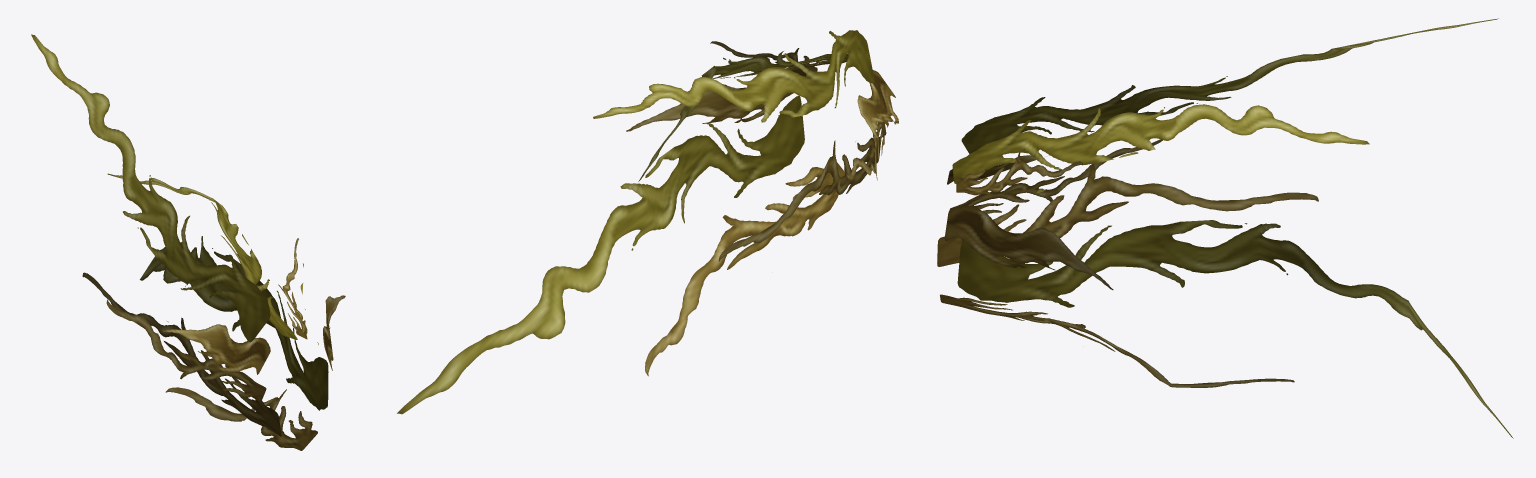
File: SMSH_Sea_grass_5.FBX
The picture shows the model from 3 angles, left to right: view 1: azimuth 30°, elevation 25°; view 2: azimuth 150°, elevation 25°; view 3: azimuth 270°, elevation 25°; orthographic projection. The views are drawn at different scales.
Parts seen in each view (by area): view 1: Ytlds_Sea_grass_5; view 2: Ytlds_Sea_grass_5; view 3: Ytlds_Sea_grass_5.
Part boxes in pixels (x1,y1,x2,y2): Ytlds_Sea_grass_5: (31,34,345,450); Ytlds_Sea_grass_5: (397,30,898,414); Ytlds_Sea_grass_5: (937,18,1513,438).
Bounding box in the file's own units: 324 × 385 × 539.
